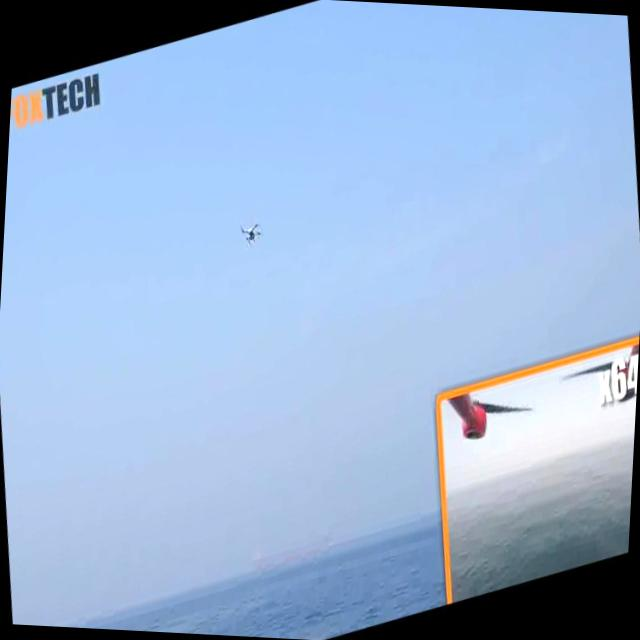drone: (237, 215, 268, 256)
